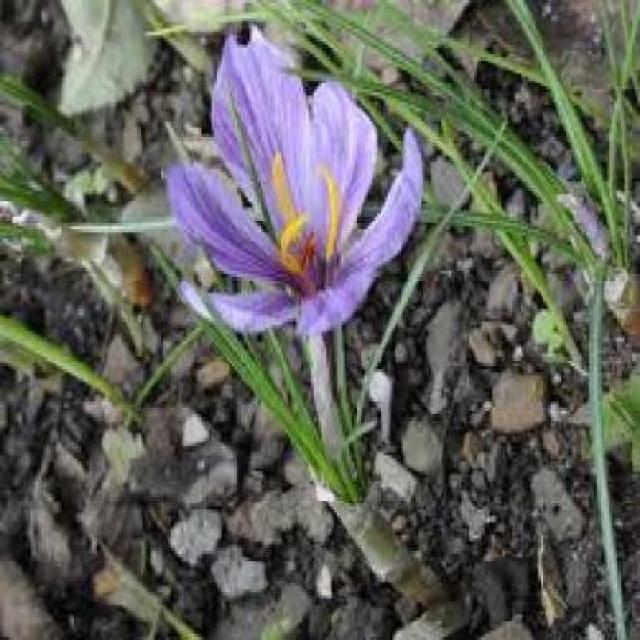Flower: (164, 28, 430, 340)
stigma: (317, 160, 343, 268), (267, 144, 295, 225)
